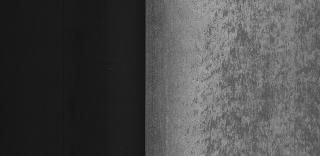silk spot: (186, 2, 320, 148)
